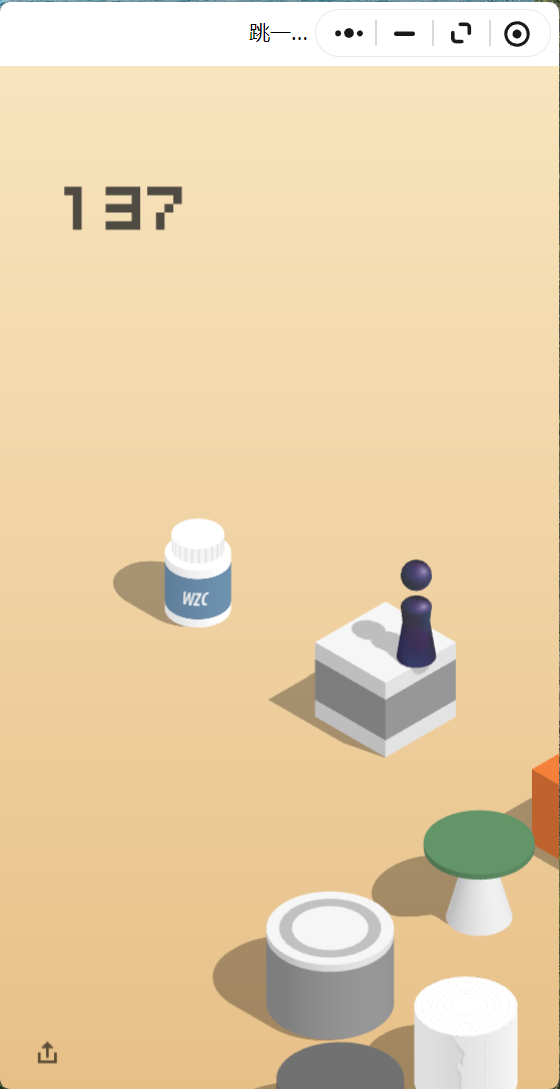piece: (400, 560, 432, 664)
target: (172, 518, 224, 548)
